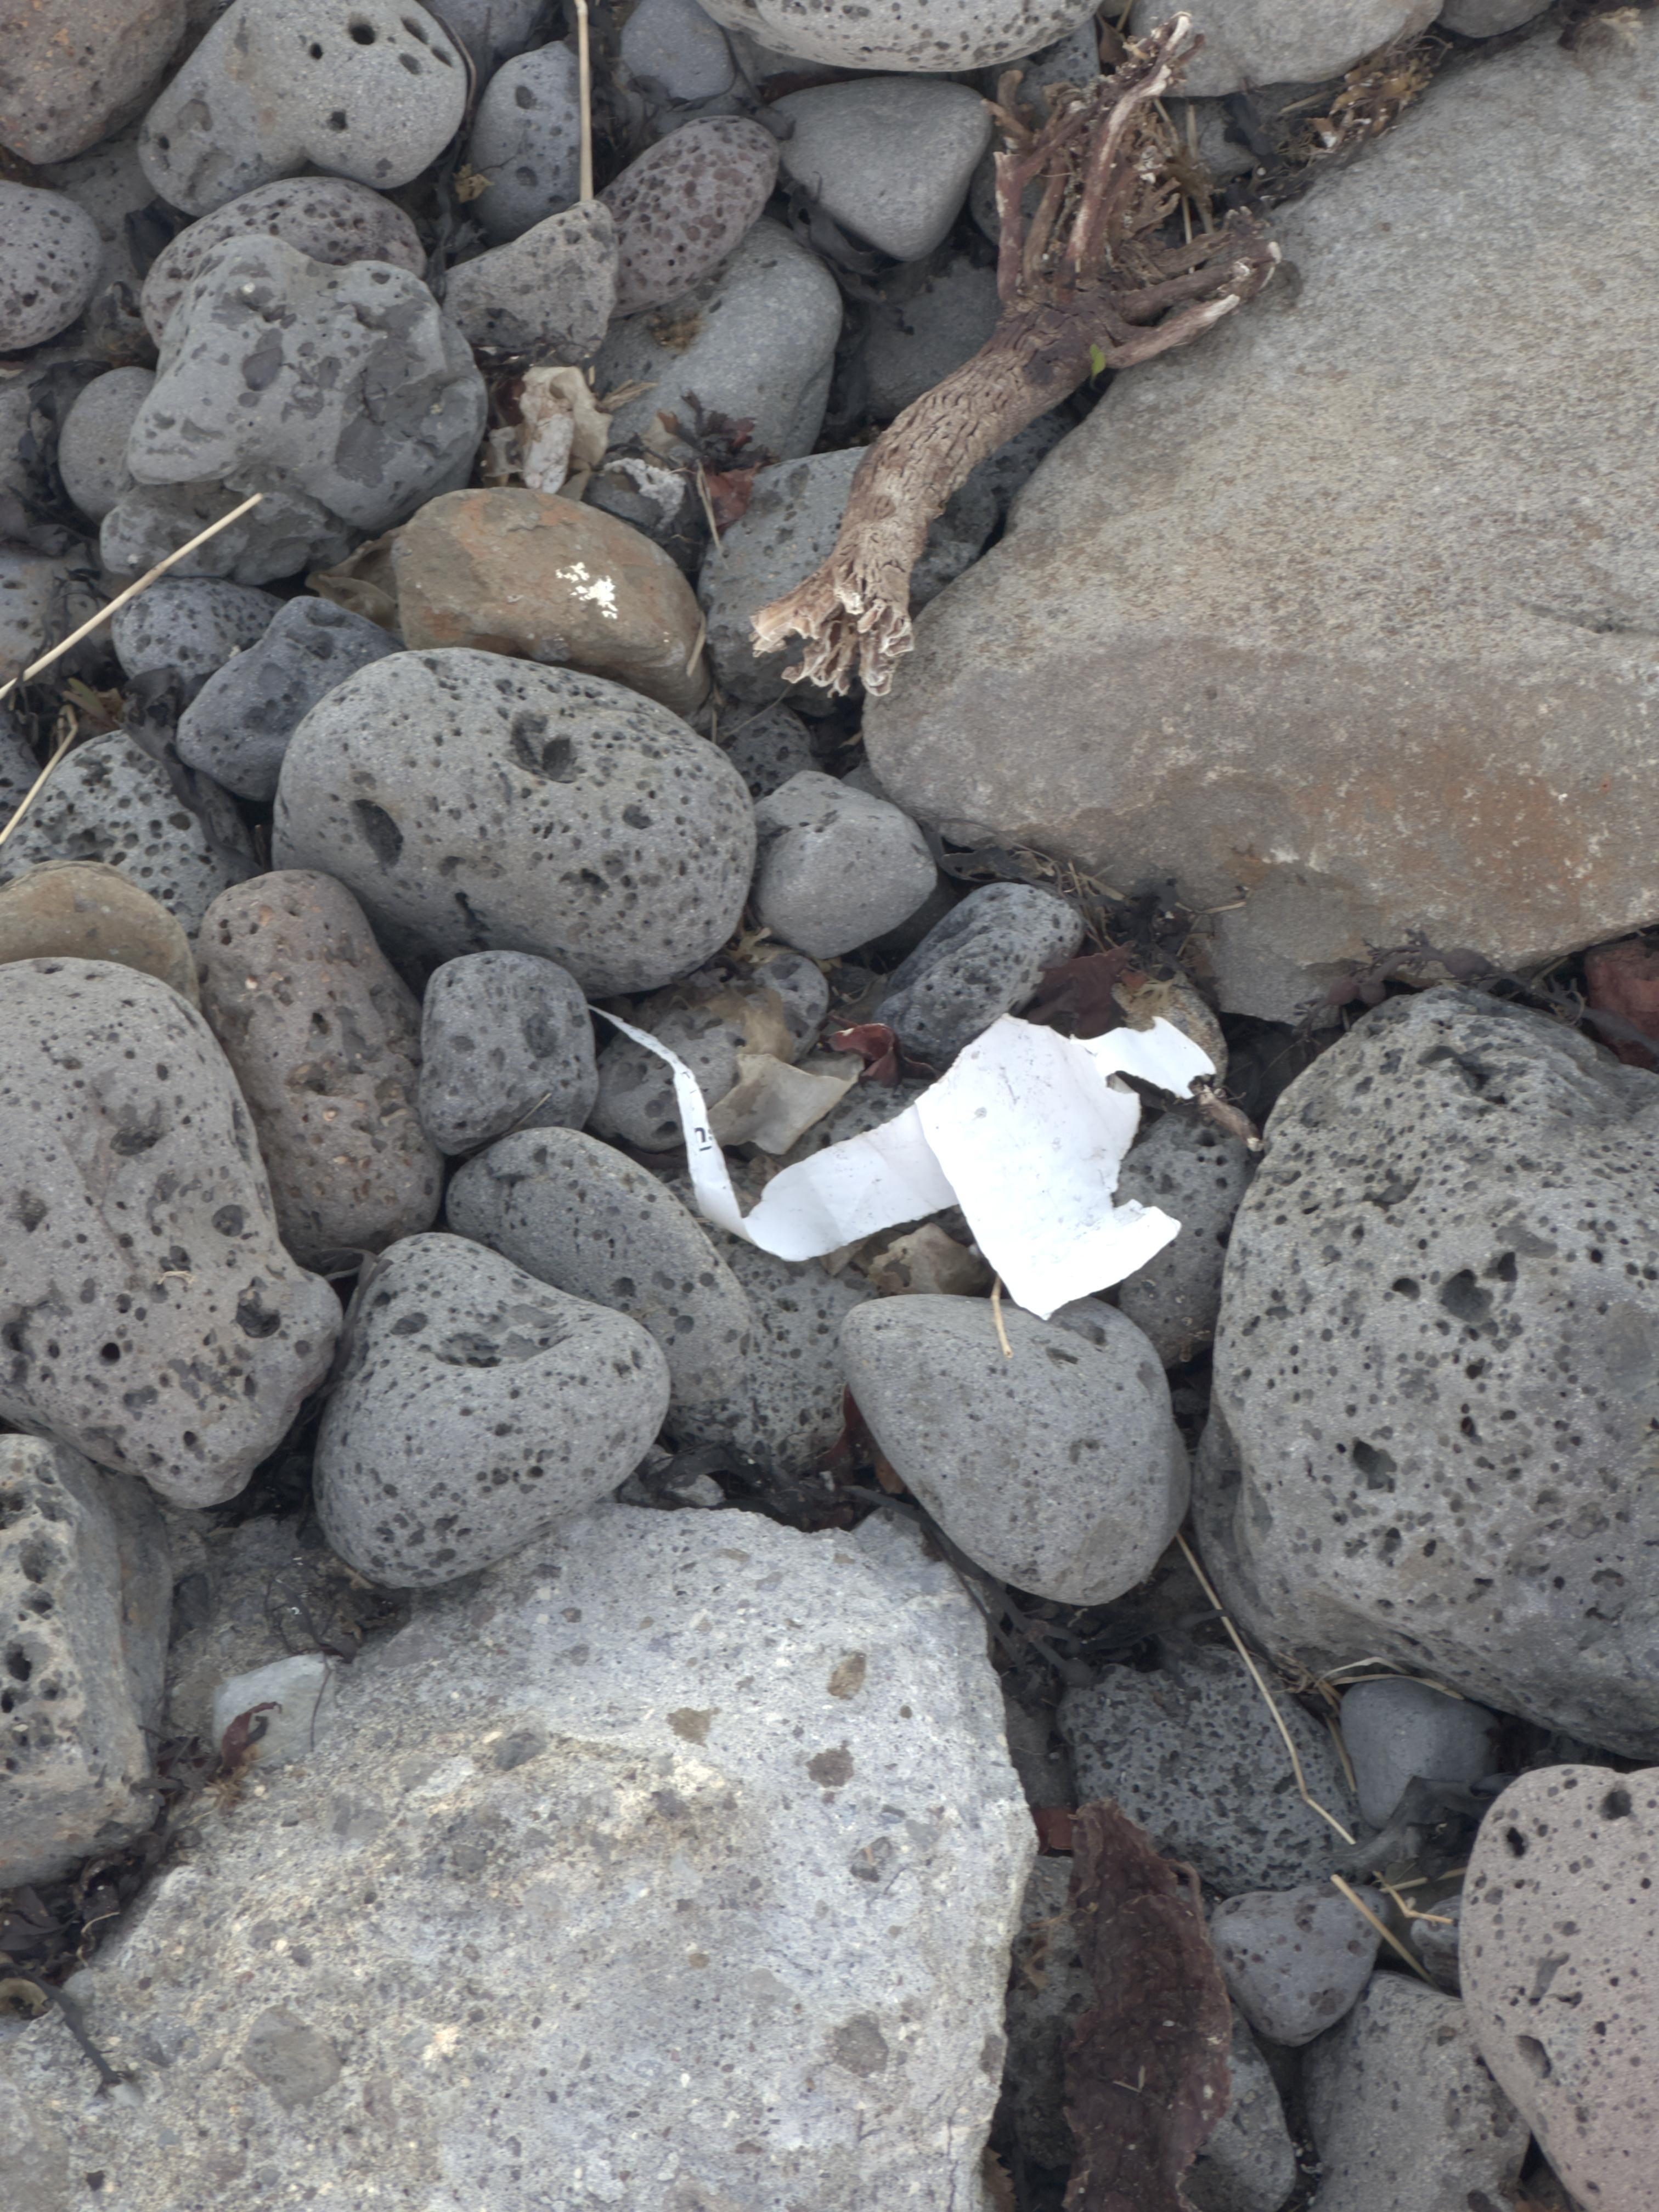trash: (596, 1007, 1215, 1318)
